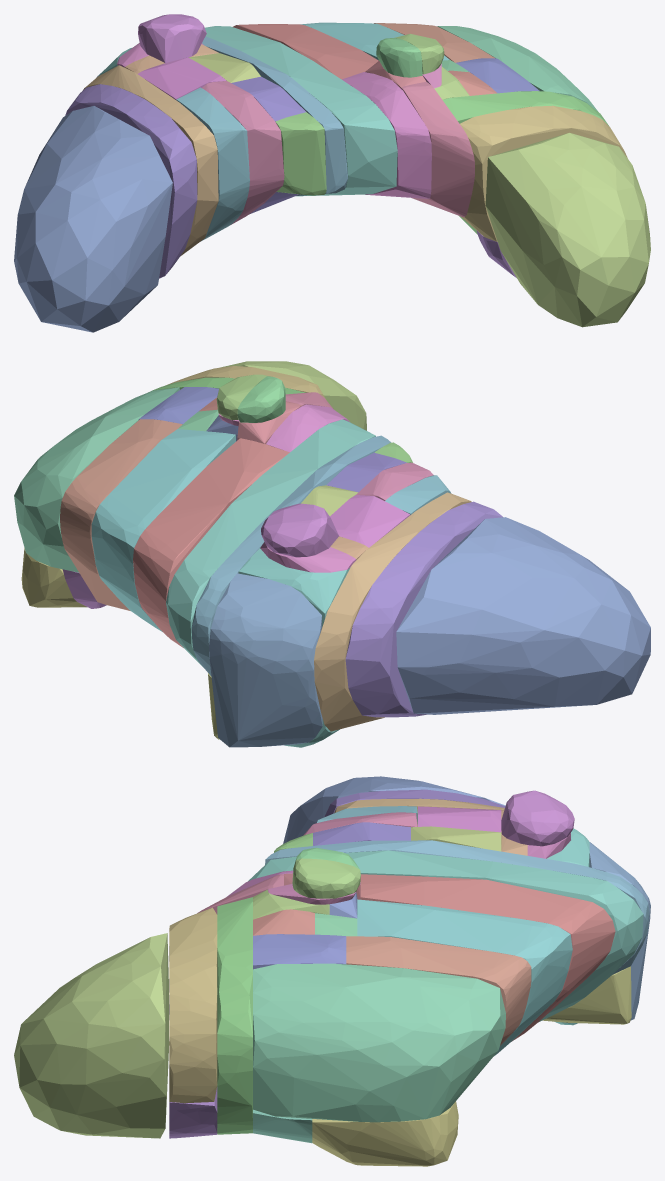
Rendered from controller_hulls.glb.
3 views of the same model, one above another, from view 1: azimuth 30°, elevation 25°; view 2: azimuth 150°, elevation 25°; view 3: azimuth 270°, elevation 25° (orthographic). The views are drawn at different scales.
Parts seen in each view (by area): view 1: geometry_0; view 2: geometry_0; view 3: geometry_0.
Boxes of the visible parts, x1=… form: geometry_0: x1=14, y1=14, x2=650, y2=332; geometry_0: x1=14, y1=361, x2=650, y2=747; geometry_0: x1=14, y1=776, x2=650, y2=1166.
Size of the model in its own units: 0.147 by 0.0565 by 0.1356.
